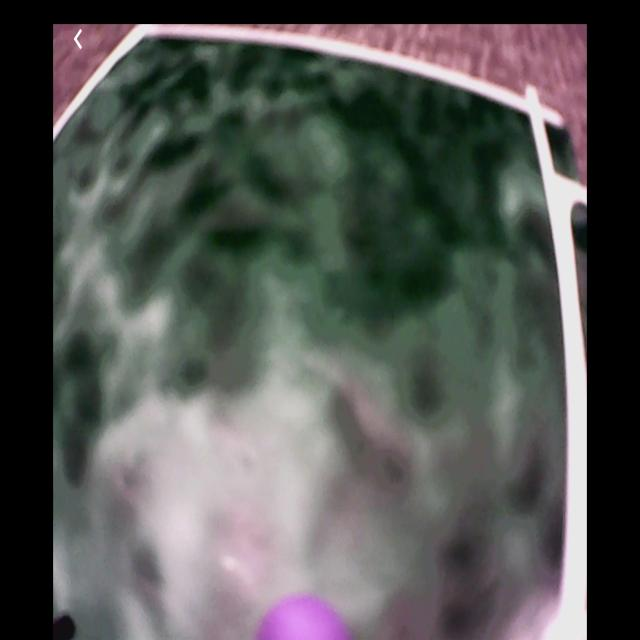ball: (261, 593, 357, 640)
